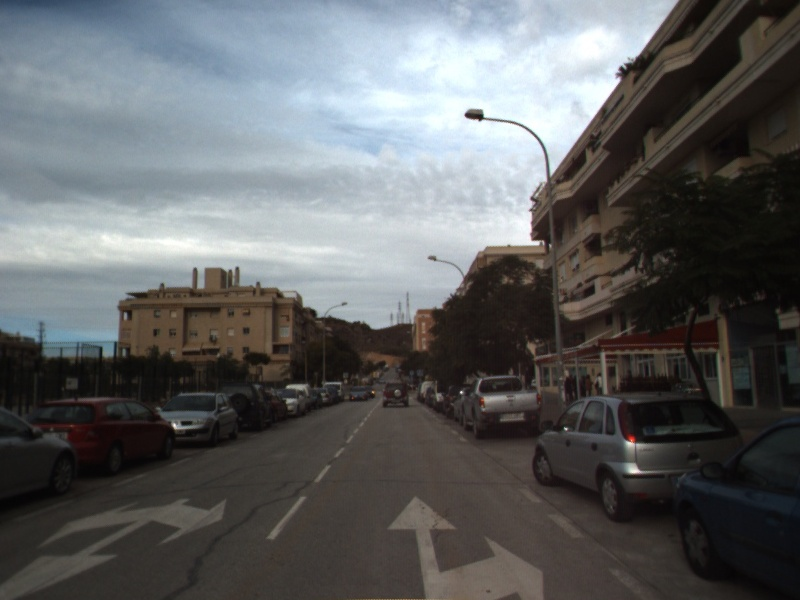STRAIGHT_RIGHT: (385, 493, 546, 600)
